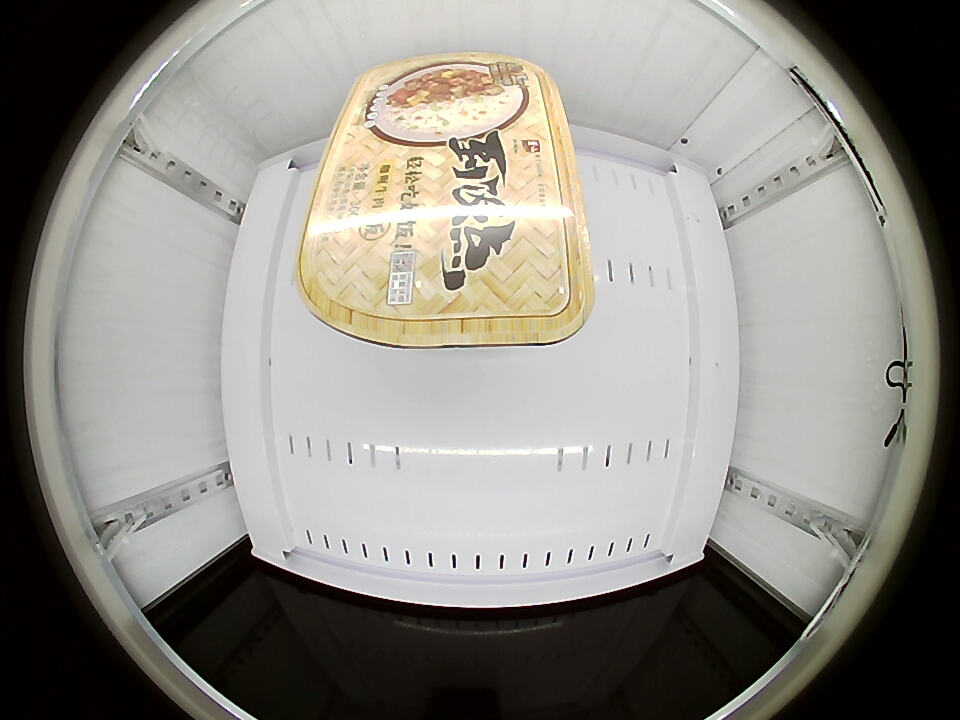daofandian2: (297, 52, 593, 350)
